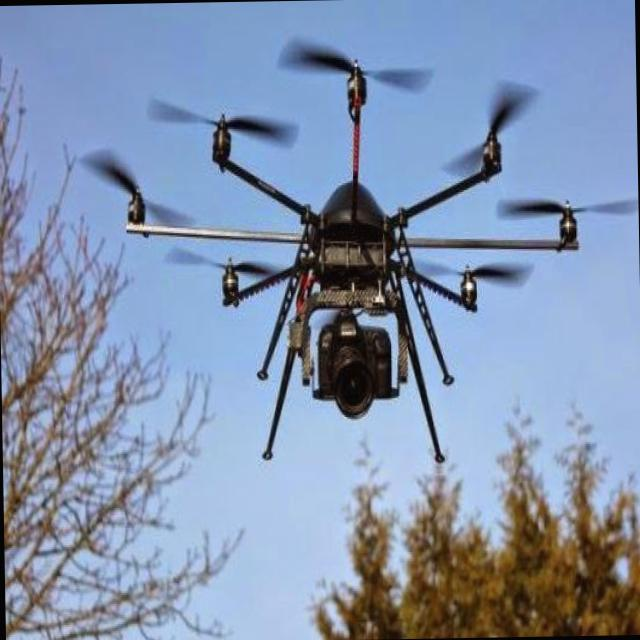drone: (120, 52, 586, 470)
